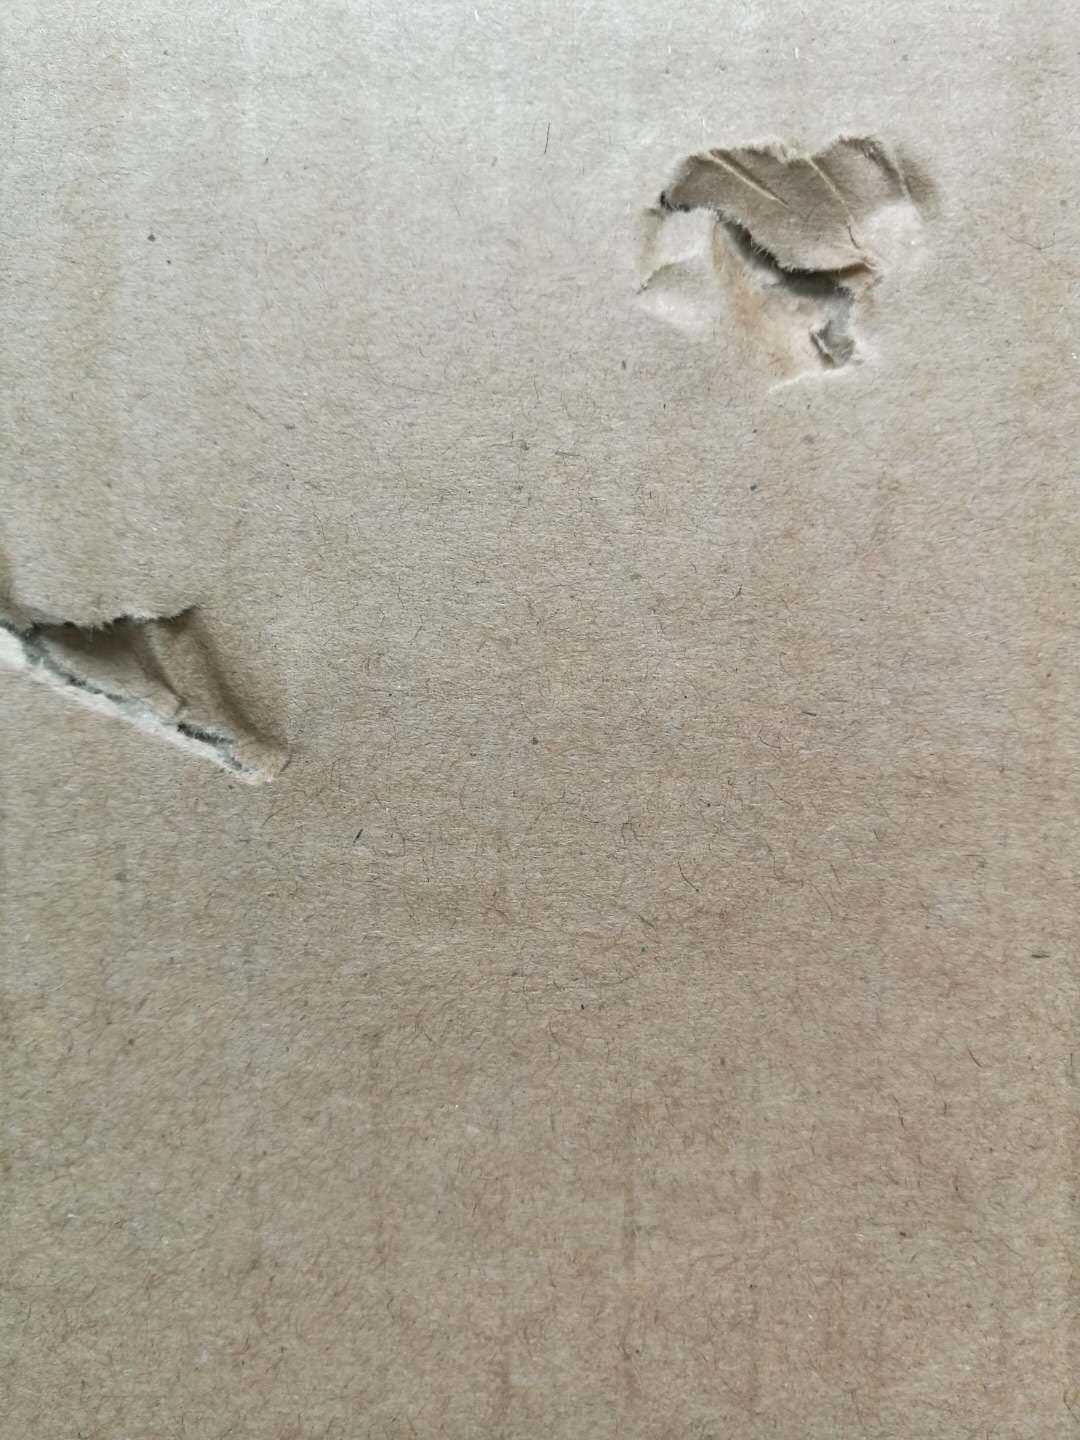defect: (587, 96, 986, 421), (1, 498, 311, 831)
